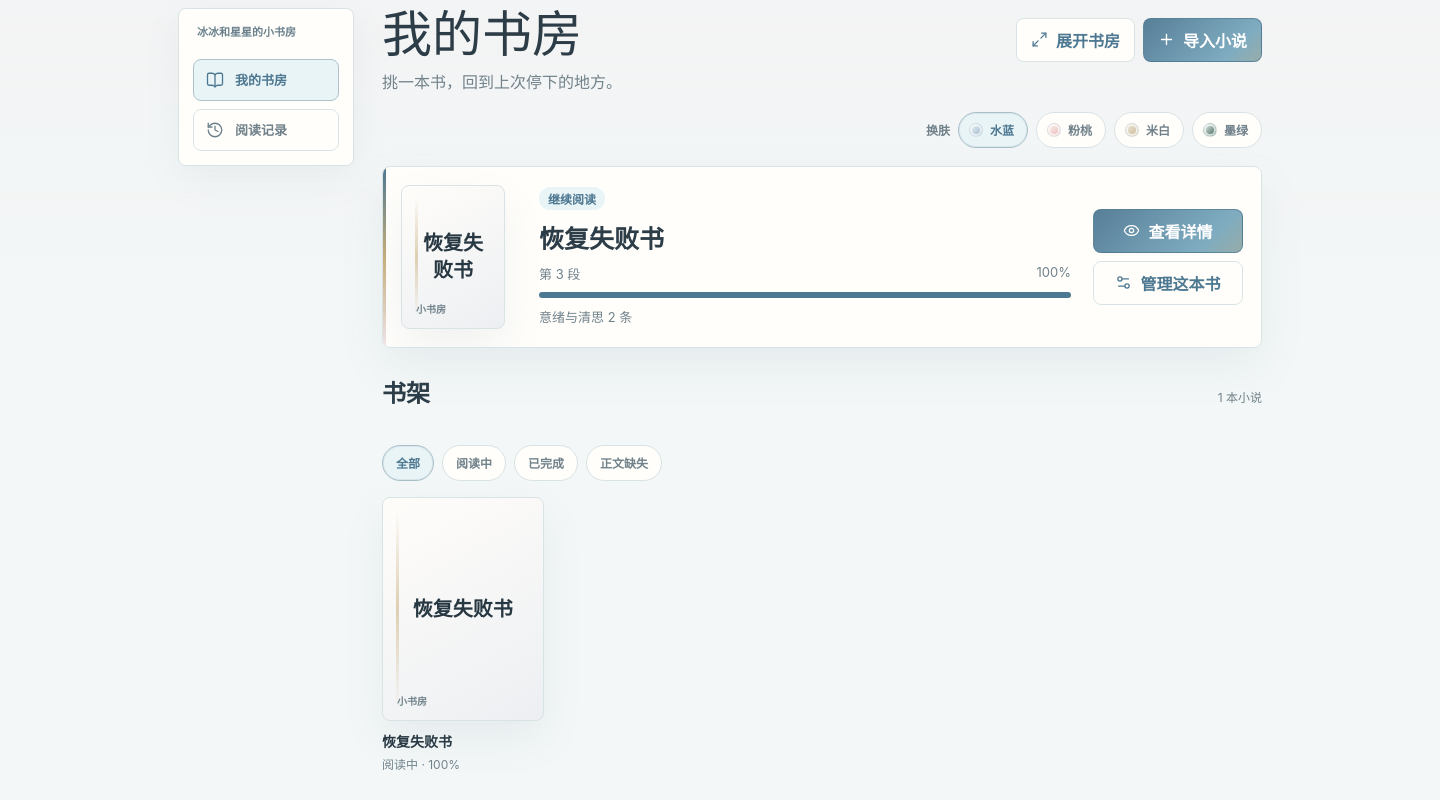
Test: App › shows restore failure without changing reading records or writing failed source text
The width and height of the screenshot is (1440, 800).
(page scrolled)
Click the button "小书房 恢复失败书 阅读中 · 100%": (463, 635) top-left (382, 497), bottom-right (544, 772)
(page scrolled)
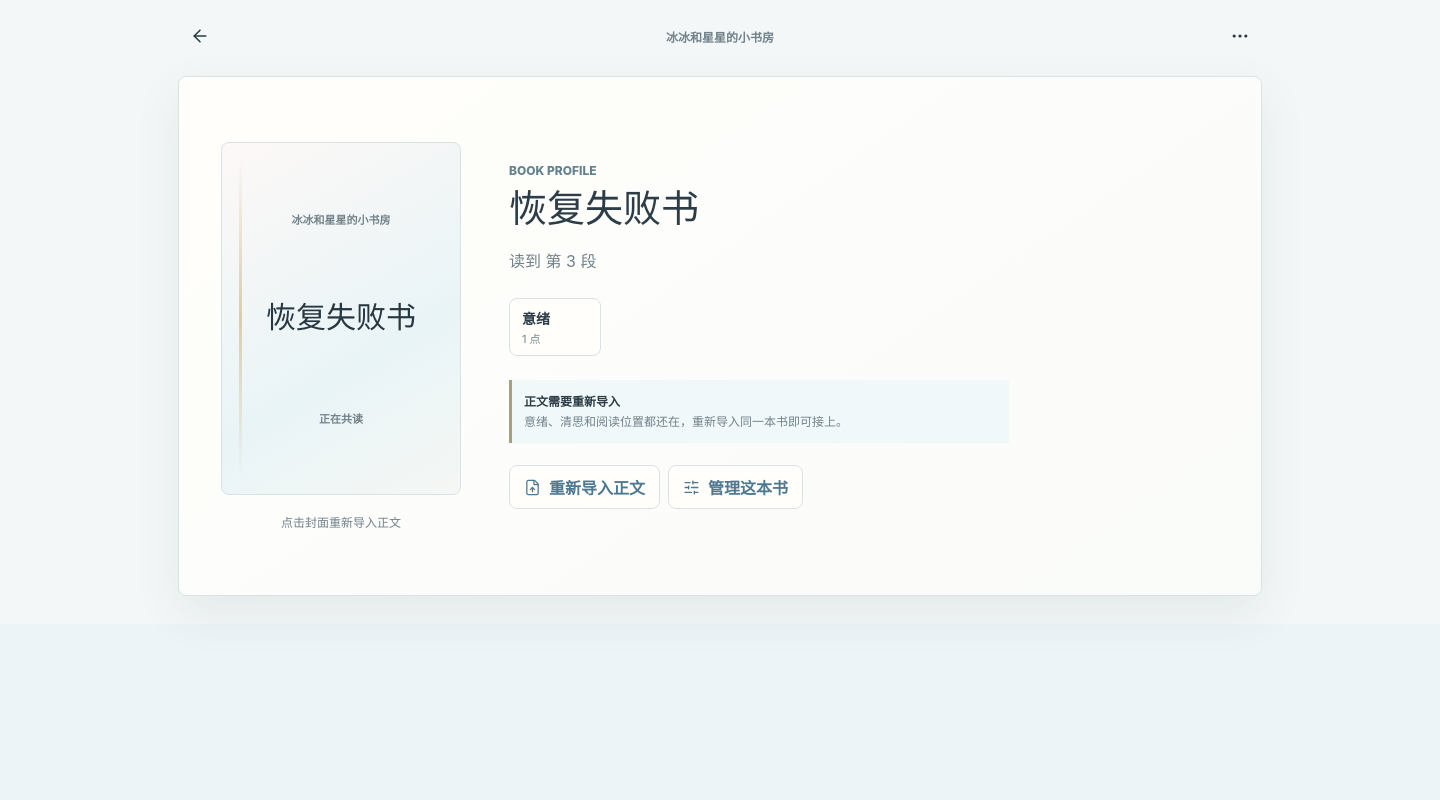
Result: the text "正文需要重新导入" is shown at top-left (524, 394), bottom-right (620, 409)
Result: the text "读到 第 3 段" is shown at top-left (509, 251), bottom-right (596, 271)
Result: the button with aria-label "重新导入正文《恢复失败书》" is shown at top-left (221, 142), bottom-right (461, 495)
